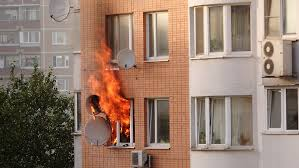fire: (75, 55, 155, 152)
